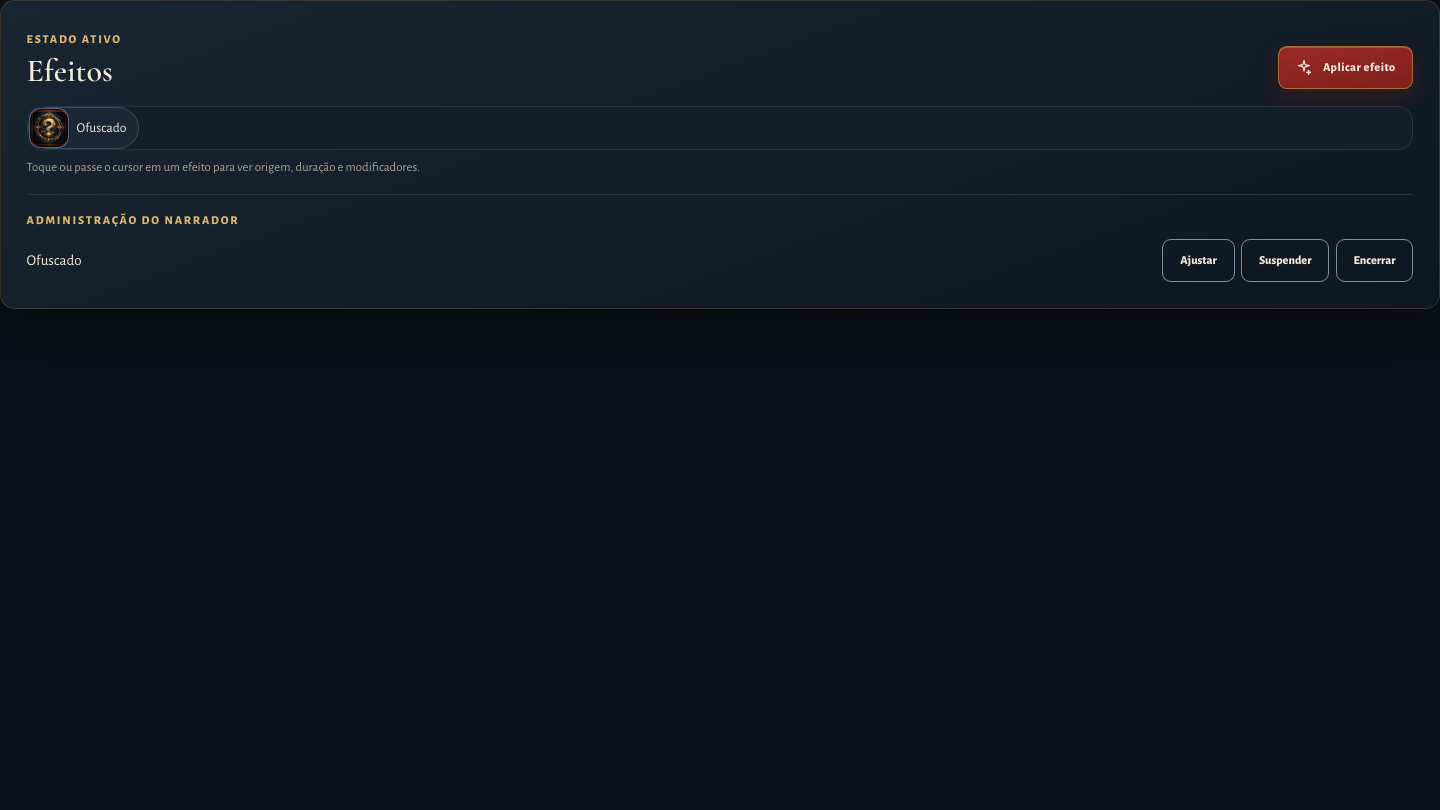
Test: EffectsPanel — 8.3 comandos de efeito do Narrador › mostra que Cego substitui Ofuscado antes de aplicar
The width and height of the screenshot is (1440, 810).
Click the button "Aplicar efeito": click(1346, 67) [1278, 46, 1413, 88]
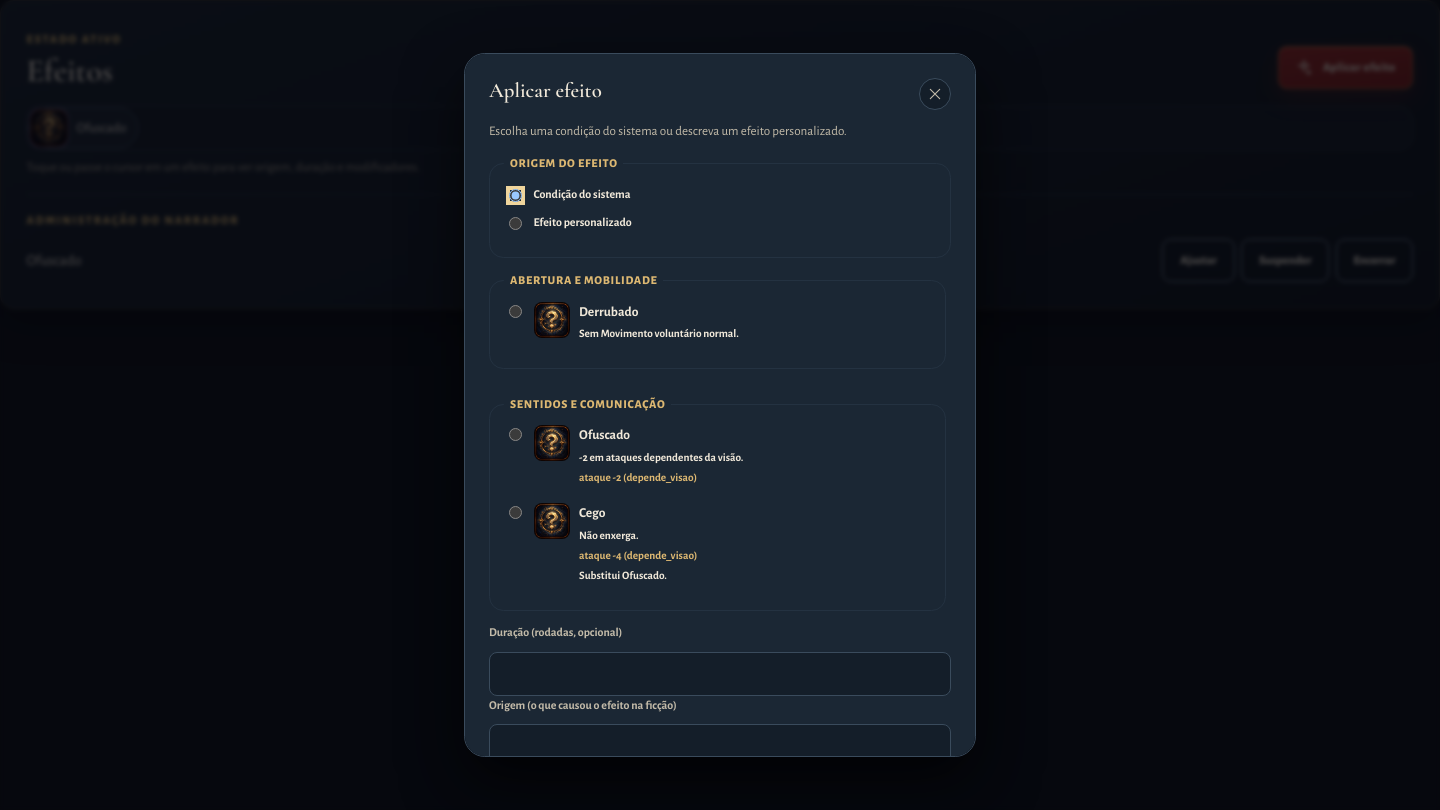
Click the radio button labelled "Cego": click(516, 513) [509, 506, 522, 519]
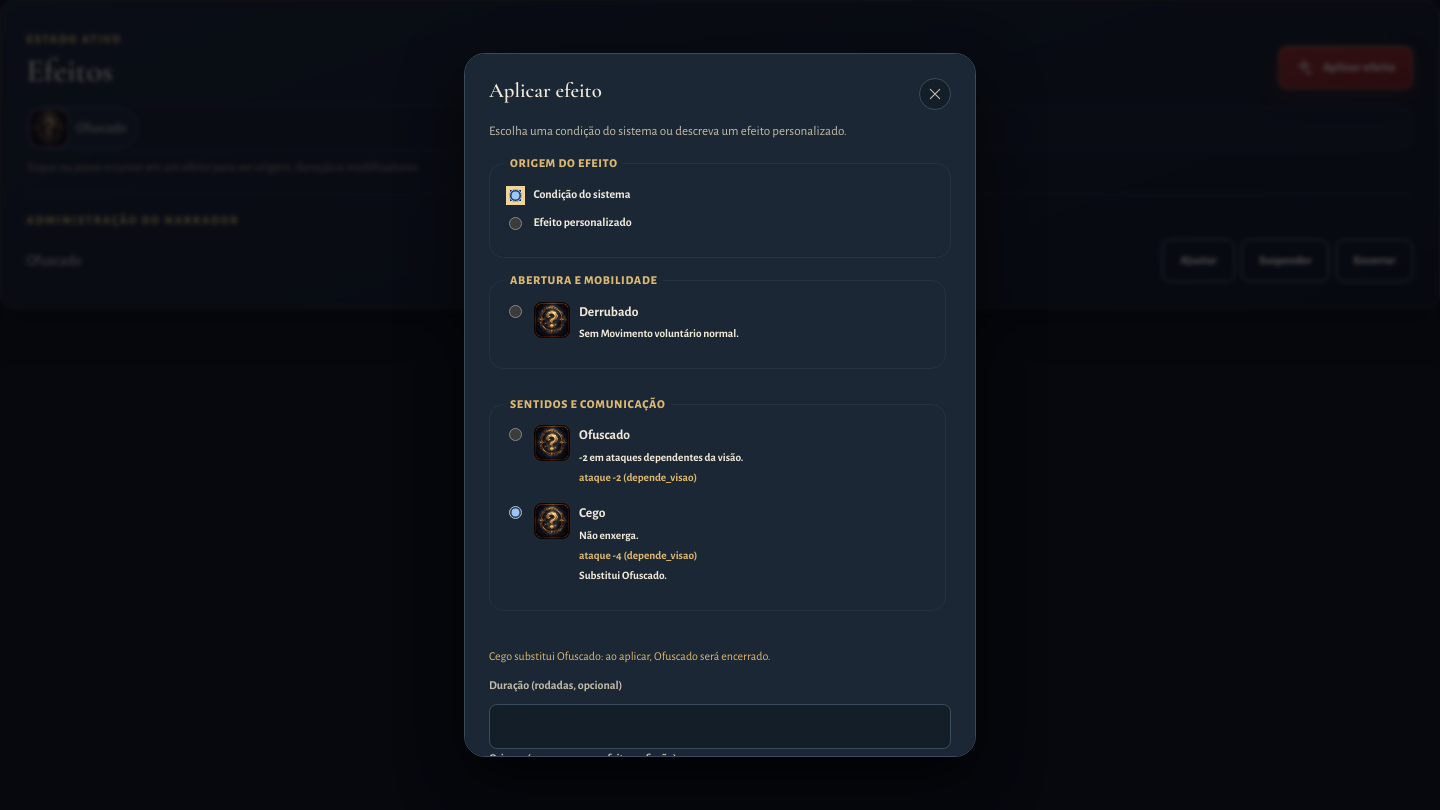
Expected: the message reads "Cego substitui Ofuscado: ao aplicar, Ofuscado será encerrado.", [489, 650, 771, 662]
